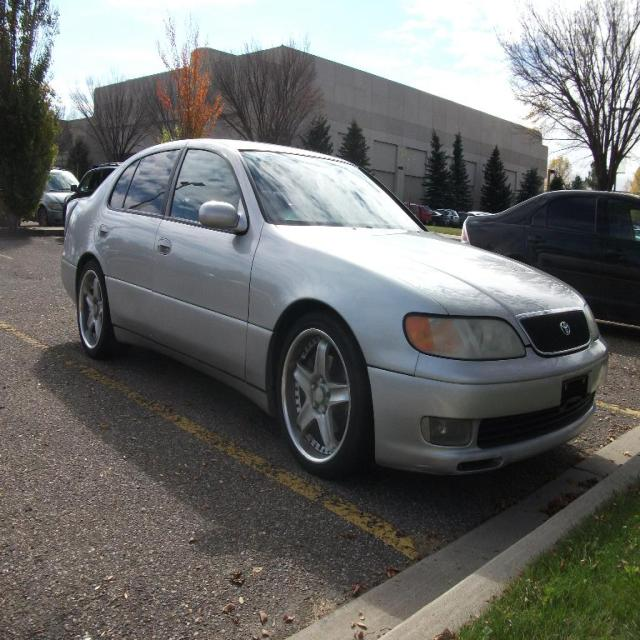car: (60, 135, 610, 482)
